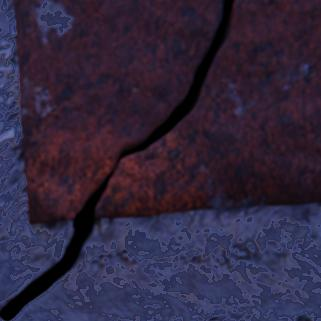broken_brick: (95, 0, 320, 218), (13, 0, 221, 224)
crack: (0, 0, 234, 320)
